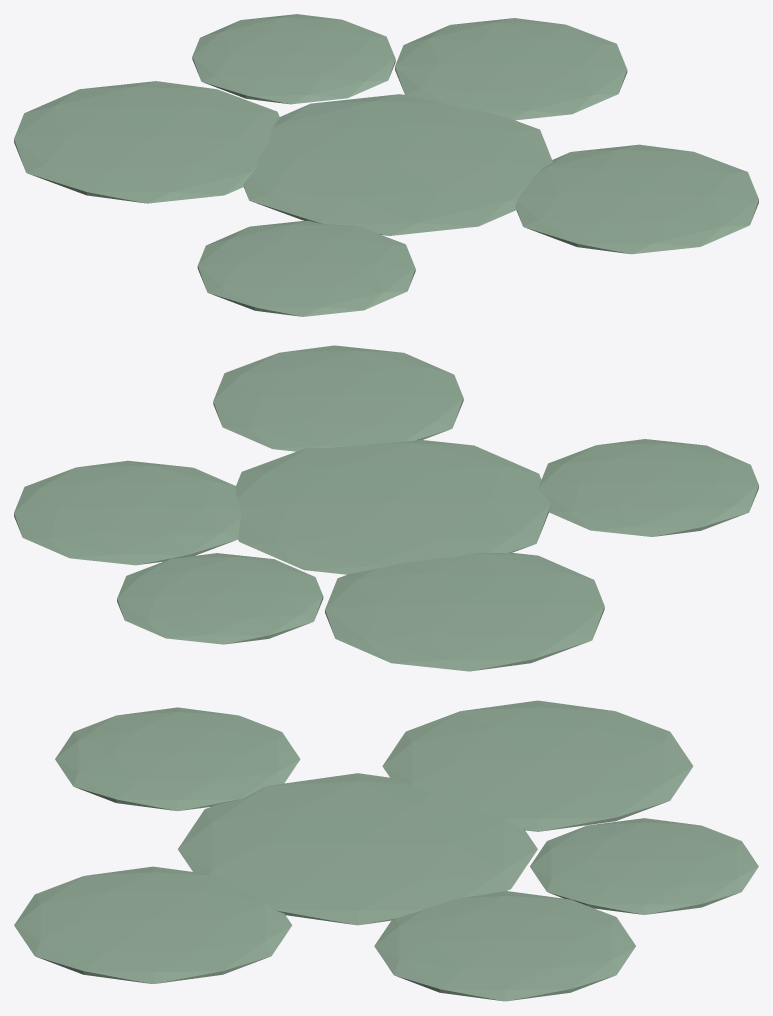
Rendered from env_lotus_leaf.glb.
3 views of the same model, one above another, from view 1: azimuth 30°, elevation 25°; view 2: azimuth 150°, elevation 25°; view 3: azimuth 270°, elevation 25° (orthographic). The views are drawn at different scales.
Parts seen in each view (by area): view 1: env_lotus_leaf/floating_lotus_leaf_pad_00000, env_lotus_leaf/floating_lotus_leaf_pad_00002, env_lotus_leaf/floating_lotus_leaf_pad_00004, env_lotus_leaf/floating_lotus_leaf_pad_00001, env_lotus_leaf/floating_lotus_leaf_pad_00003, env_lotus_leaf/floating_lotus_leaf_pad_00005; view 2: env_lotus_leaf/floating_lotus_leaf_pad_00000, env_lotus_leaf/floating_lotus_leaf_pad_00002, env_lotus_leaf/floating_lotus_leaf_pad_00004, env_lotus_leaf/floating_lotus_leaf_pad_00001, env_lotus_leaf/floating_lotus_leaf_pad_00003, env_lotus_leaf/floating_lotus_leaf_pad_00005; view 3: env_lotus_leaf/floating_lotus_leaf_pad_00000, env_lotus_leaf/floating_lotus_leaf_pad_00002, env_lotus_leaf/floating_lotus_leaf_pad_00004, env_lotus_leaf/floating_lotus_leaf_pad_00001, env_lotus_leaf/floating_lotus_leaf_pad_00003, env_lotus_leaf/floating_lotus_leaf_pad_00005.
Boxes of the visible parts, box(x1,y1,x2,y2) form: env_lotus_leaf/floating_lotus_leaf_pad_00000: box(243, 94, 552, 235); env_lotus_leaf/floating_lotus_leaf_pad_00002: box(14, 81, 279, 203); env_lotus_leaf/floating_lotus_leaf_pad_00004: box(515, 144, 758, 254); env_lotus_leaf/floating_lotus_leaf_pad_00001: box(395, 18, 627, 120); env_lotus_leaf/floating_lotus_leaf_pad_00003: box(197, 220, 415, 316); env_lotus_leaf/floating_lotus_leaf_pad_00005: box(192, 14, 395, 104); env_lotus_leaf/floating_lotus_leaf_pad_00000: box(235, 439, 550, 574); env_lotus_leaf/floating_lotus_leaf_pad_00002: box(325, 552, 604, 671); env_lotus_leaf/floating_lotus_leaf_pad_00004: box(213, 345, 463, 451); env_lotus_leaf/floating_lotus_leaf_pad_00001: box(14, 460, 241, 565); env_lotus_leaf/floating_lotus_leaf_pad_00003: box(538, 439, 758, 536); env_lotus_leaf/floating_lotus_leaf_pad_00005: box(117, 553, 323, 644); env_lotus_leaf/floating_lotus_leaf_pad_00000: box(178, 773, 537, 925); env_lotus_leaf/floating_lotus_leaf_pad_00002: box(382, 700, 693, 831); env_lotus_leaf/floating_lotus_leaf_pad_00004: box(14, 866, 292, 983); env_lotus_leaf/floating_lotus_leaf_pad_00001: box(374, 891, 635, 1001); env_lotus_leaf/floating_lotus_leaf_pad_00003: box(55, 707, 300, 811); env_lotus_leaf/floating_lotus_leaf_pad_00005: box(530, 818, 758, 914).
Bounding box in the file's own units: 0.87 × 0.016 × 0.91.
